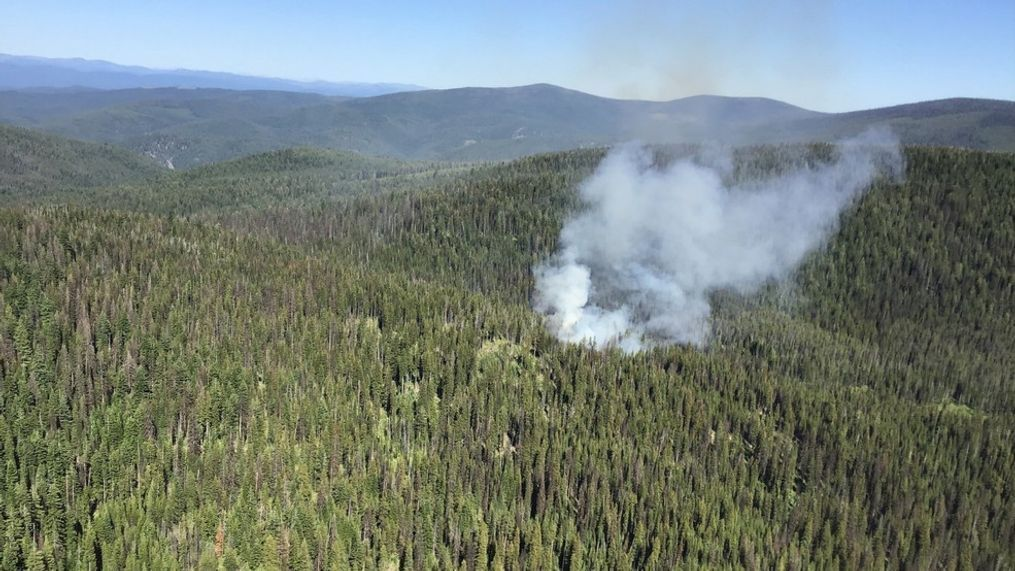fire: (559, 116, 928, 258), (525, 248, 752, 380)
